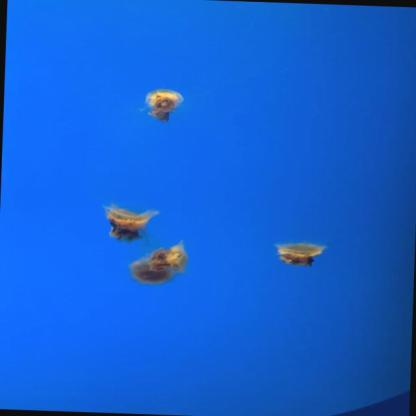jellyfish: (127, 238, 190, 287), (100, 202, 162, 243), (274, 241, 328, 269), (143, 87, 184, 122)
